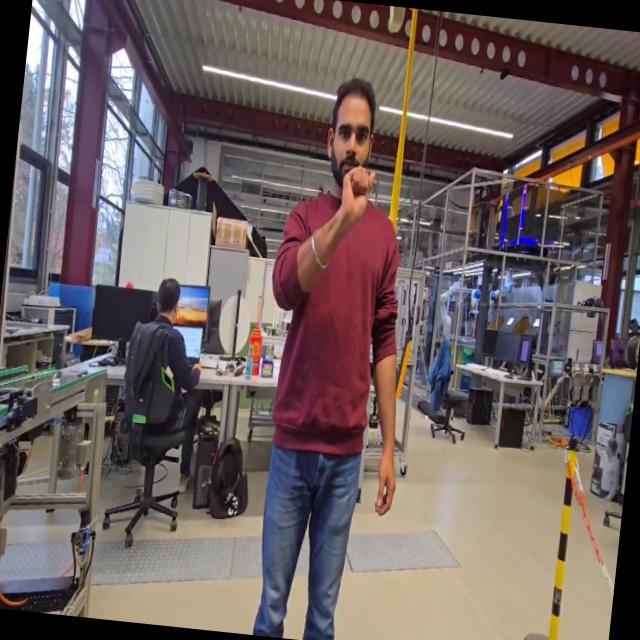closed_fist: (337, 160, 379, 224)
